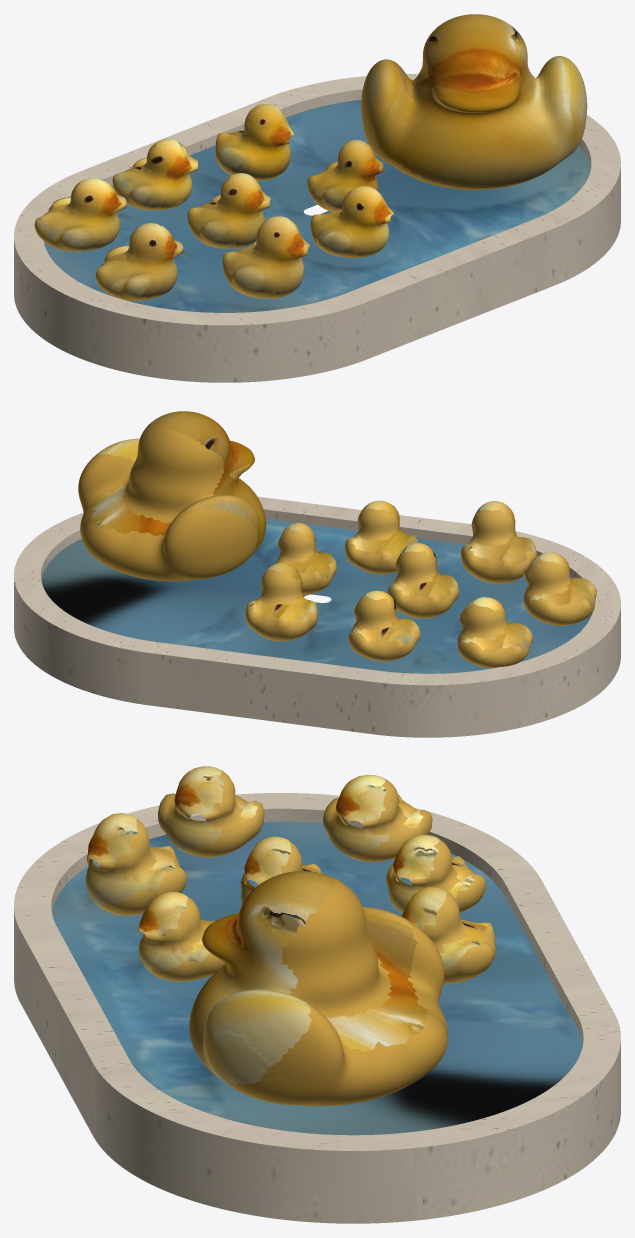
The model's file is 11-duck-skin.glb.
3 views of the same model, one above another, from view 1: azimuth 30°, elevation 25°; view 2: azimuth 150°, elevation 25°; view 3: azimuth 270°, elevation 25° (orthographic). The views are drawn at different scales.
Size of the model in its own units: 0.9507 by 0.3213 by 0.681.
Materials: 1 (1 with a texture image).
